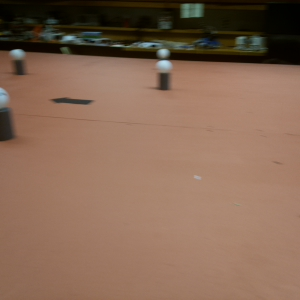obstacle: (152, 59, 175, 89), (1, 85, 13, 141), (11, 48, 27, 76), (156, 47, 170, 64)
